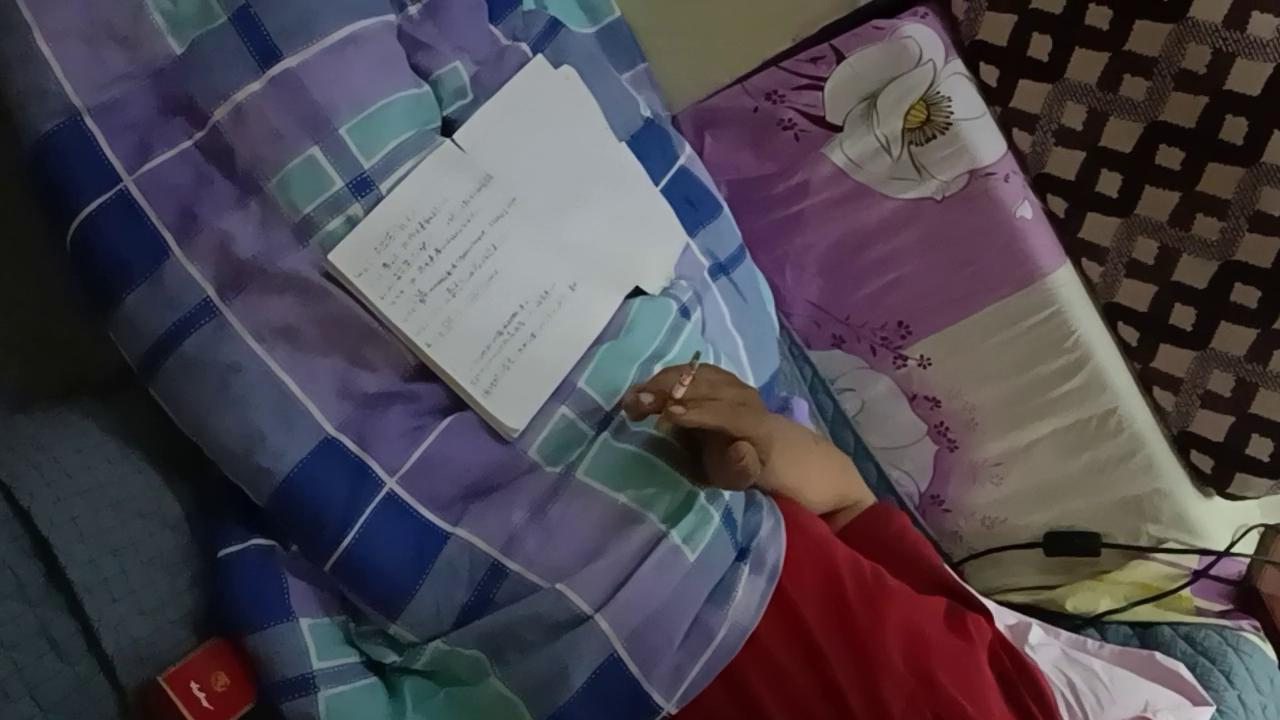smoke: (654, 350, 703, 436)
